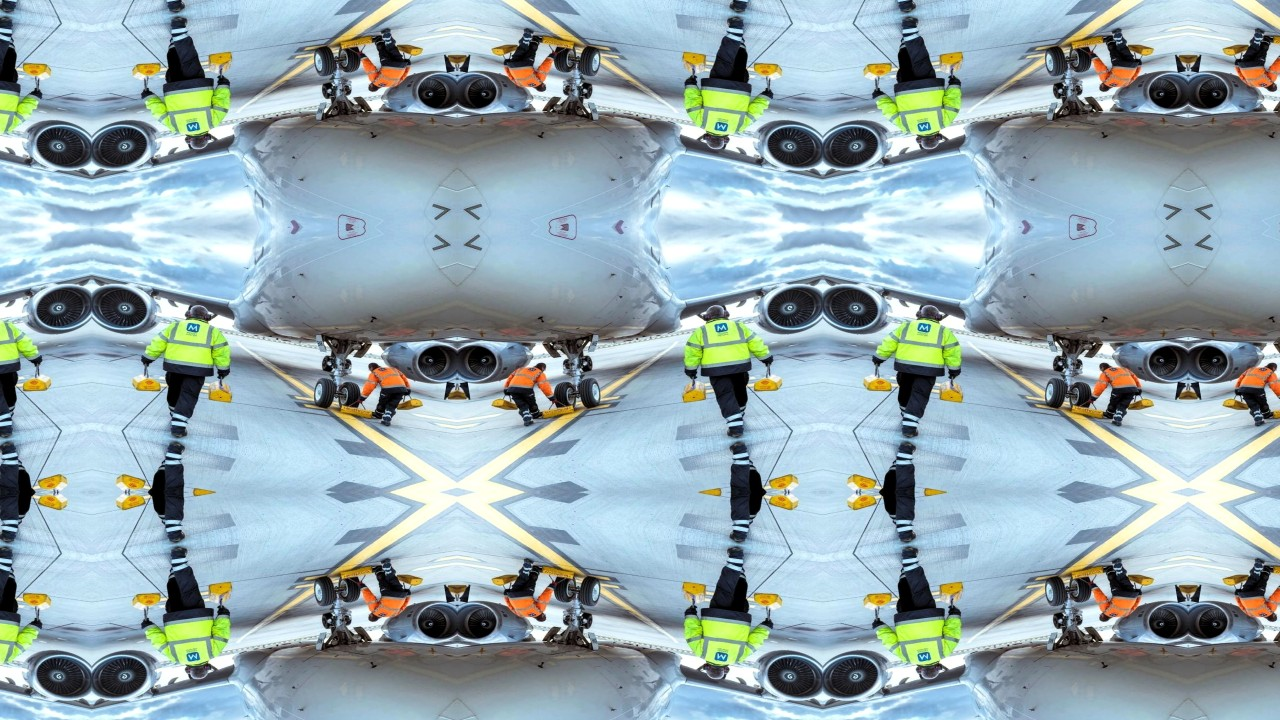chock: (18, 59, 54, 83), (128, 59, 164, 83), (750, 59, 786, 83), (860, 59, 896, 83), (18, 371, 54, 395), (128, 371, 164, 395), (750, 371, 786, 395), (860, 371, 896, 395), (18, 590, 54, 614), (128, 590, 164, 614), (750, 590, 786, 614), (860, 590, 896, 614), (206, 49, 236, 77), (678, 49, 708, 77), (938, 49, 968, 77), (206, 377, 236, 405), (678, 377, 708, 405), (938, 377, 968, 405), (206, 580, 236, 608), (678, 580, 708, 608), (938, 580, 968, 608), (35, 472, 71, 493), (111, 472, 147, 493), (767, 472, 803, 493), (843, 472, 879, 493), (35, 493, 71, 513), (111, 493, 147, 513), (767, 493, 803, 513), (843, 493, 879, 513), (393, 39, 424, 59), (490, 39, 521, 59), (1125, 39, 1156, 59), (1222, 39, 1253, 59), (393, 395, 424, 415), (490, 395, 521, 415), (1125, 395, 1156, 415), (1222, 395, 1253, 415), (393, 570, 424, 590), (490, 570, 521, 590), (1125, 570, 1156, 590), (1222, 570, 1253, 590), (339, 34, 374, 49), (540, 34, 575, 49), (1071, 34, 1106, 49), (339, 405, 374, 420), (540, 405, 575, 420), (1071, 405, 1106, 420), (339, 565, 374, 580), (540, 565, 575, 580), (1071, 565, 1106, 580), (444, 49, 457, 72), (457, 49, 470, 72), (1176, 49, 1189, 72), (1189, 49, 1202, 72), (444, 382, 457, 405), (457, 382, 470, 405), (1176, 382, 1189, 405), (1189, 382, 1202, 405), (444, 580, 457, 603), (457, 580, 470, 603), (1176, 580, 1189, 603), (1189, 580, 1202, 603), (1272, 34, 1280, 49), (1272, 405, 1280, 420), (1272, 565, 1280, 580)
wheel: (311, 45, 337, 78), (577, 45, 603, 78), (1043, 45, 1069, 78), (311, 376, 337, 409), (577, 376, 603, 409), (1043, 376, 1069, 409), (311, 576, 337, 609), (577, 576, 603, 609), (1043, 576, 1069, 609), (335, 43, 362, 74), (552, 43, 579, 74), (1067, 43, 1094, 74), (335, 380, 362, 411), (552, 380, 579, 411), (1067, 380, 1094, 411), (335, 574, 362, 605), (552, 574, 579, 605), (1067, 574, 1094, 605), (320, 82, 334, 99), (580, 82, 594, 99), (1052, 82, 1066, 99), (320, 355, 334, 372), (580, 355, 594, 372), (1052, 355, 1066, 372), (320, 613, 334, 630), (580, 613, 594, 630), (1052, 613, 1066, 630), (343, 86, 352, 96), (562, 86, 571, 96), (1075, 86, 1084, 96), (343, 358, 352, 368), (562, 358, 571, 368), (1075, 358, 1084, 368), (343, 617, 352, 627), (562, 617, 571, 627), (1075, 617, 1084, 627)
